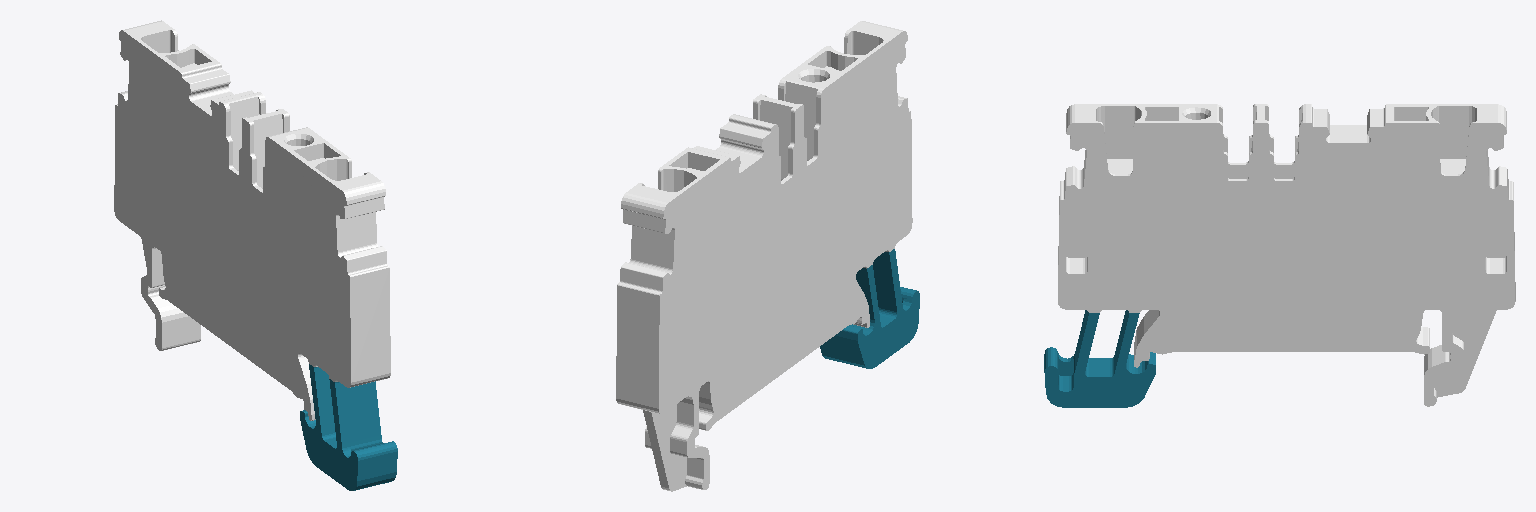
URDF robot description (W_QS_1):
<?xml version="0.0" ?>
<robot name="W_QS_1">
  <link name="main">
<!--     <contact>
      <lateral_friction value=".5"/>
    </contact> -->
    <inertial>
      <origin rpy="0 0 0" xyz="0.00254035 0.0283939 0.0206241"/>
       <mass value="0.007"/>
       <inertia ixx="1.763E-06" ixy="1.377E-06" ixz="4.158E-07" iyy="4.158E-07" iyz="1.763E-06" izz="1.377E-06"/>
    </inertial>
    <visual>
      <origin rpy="0 0 0" xyz="0 0 0"/>
      <geometry>
				<mesh filename="W_QS_Main_1.obj" scale="1 1 1"/>
      </geometry>
      <material name="WS_white">
        <color rgba="1 1 1 1"/>
      </material>
    </visual>
    <collision>
      <origin rpy="0 0 0" xyz="0 0 0"/>
      <geometry>
				<mesh filename="W_QS_Main_1.obj" scale="1 1 1"/>
      </geometry>
    </collision>
  </link>

  <joint name="main_to_hinge_left_back" type="fixed">
    <parent link="main"/>
    <child link="hinge_left_back"/>
    <origin xyz="0 0.005742 0.012" rpy="0 0 0"/>
  </joint>

  <link name="hinge_left_back">
    <inertial>
      <origin rpy="0 0 0" xyz="0.00255 0.00498658 0.00852295"/>
       <mass value="4.526E-05"/>
       <inertia ixx="1.995E-10" ixy="1.127E-10" ixz="2.829E-10" iyy="2.829E-10" iyz="1.995E-10" izz="1.127E-10"/>
    </inertial>
    <visual>
      <origin rpy="0 0 0" xyz="0 -0.005742 -0.012"/>
      <geometry>
				<mesh filename="W_QS_LeftS_1.obj" scale="1 1 1"/>
      </geometry>
      <material name="WS_blue">
        <color rgba="0.173 0.545 0.647 1"/>
      </material>
    </visual>
    <collision>
      <origin rpy="0 0 0" xyz="0 -0.005742 -0.012"/>
      <geometry>
				<mesh filename="W_QS_LeftS_1.obj" scale="1 1 1"/>
      </geometry>
    </collision>
  </link>

  <joint name="main_to_hinge_right_front" type="fixed">
    <parent link="main"/>
    <child link="hinge_right_front"/>
    <origin xyz="0 0.01038 0.012" rpy="0 0 0"/>
  </joint>

  <link name="hinge_right_front">
    <inertial>
      <origin rpy="0 0 0" xyz="0.00255 0.00957389 0.00855116"/>
       <mass value="4.239E-05"/>
       <inertia ixx="1.879E-10" ixy="1.057E-10" ixz="2.660E-10" iyy="2.660E-10" iyz="1.879E-10" izz="1.057E-10"/>
    </inertial>
    <visual>
      <origin rpy="0 0 0" xyz="0 -0.01038 -0.012"/>
      <geometry>
				<mesh filename="W_QS_RightS_1.obj" scale="1 1 1"/>
      </geometry>
      <material name="WS_blue">
        <color rgba="0.173 0.545 0.647 1"/>
      </material>
    </visual>
    <collision>
      <origin rpy="0 0 0" xyz="0 -0.01038 -0.012"/>
      <geometry>
				<mesh filename="W_QS_RightS_1.obj" scale="1 1 1"/>
      </geometry>
    </collision>
  </link>

  <joint name="hinge_left_back_to_clip" type="prismatic">
    <parent link="hinge_left_back"/>
    <child link="clip"/>
    <origin xyz="0 -0.001542 -0.007" rpy="0 0 0"/>
    <axis xyz="0 1 0"/>
    <limit lower="-0.0009" upper="0"
           effort="300" velocity="3.14159265359" />
    <safety_controller soft_lower_limit="-0.0009"
                       soft_upper_limit="0"
                       k_position="100"
                       k_velocity="2"/>
    <dynamics damping="0.5"/>
  </joint>

  <!-- 0 0.005742 0.012 -->

  <!-- <joint name="hinge_right_front_to_clip" type="revolute">
    <parent link="hinge_right_front"/>
    <child link="clip"/>
    <origin xyz="0.005109 0.00885 0.005" rpy="0 0 0"/>
    <axis xyz="0 0 1"/>
    <limit lower="-0.01" upper="0.01"
           effort="300" velocity="3.14159265359" />
    <safety_controller soft_lower_limit="-3.01941960595"
                       soft_upper_limit="3.01941960595"
                       k_position="100"
                       k_velocity="2"/>
    <dynamics damping="0.5"/>
  </joint> -->

  <link name="clip">
    <inertial>
      <origin rpy="0 0 0" xyz="0.00252297 0.0063662 0.00238966"/>
       <mass value="2.681E-04"/>
       <inertia ixx="3.829E-09" ixy="3.915E-09" ixz="1.091E-09" iyy="1.091E-09" iyz="3.829E-09" izz="3.915E-09"/>
    </inertial>
    <visual>
      <origin rpy="0 0 0" xyz="0 -0.0042 -0.005"/>
      <geometry>
				<mesh filename="W_QS_ClipS_1.obj" scale="1 1 1"/>
      </geometry>
       <material name="WS_blue">
        <color rgba="0.173 0.545 0.647 1"/>
      </material>
    </visual>
    <collision>
      <origin rpy="0 0 0" xyz="0 -0.0042 -0.005"/>
      <geometry>
				<mesh filename="W_QS_ClipS_1.obj" scale="1 1 1"/>
      </geometry>
    </collision>
  </link>
</robot>

--- Facts derived from the render (not from the file) ---
Views: 3 orthographic renders of the robot side by side, from view 1: azimuth 30°, elevation 25°; view 2: azimuth 150°, elevation 25°; view 3: azimuth 270°, elevation 25°.
Robot: W_QS_1 — 4 links, 3 joints (1 prismatic, 2 fixed); root link main; default pose: every joint at zero.
Links seen in each view (by area): view 1: main, clip, hinge_left_back, hinge_right_front; view 2: main, clip, hinge_left_back, hinge_right_front; view 3: main, clip, hinge_left_back, hinge_right_front.
Link boxes in pixels (x1,y1,x2,y2): main: (114, 20, 390, 420); clip: (300, 410, 397, 490); hinge_left_back: (329, 379, 380, 443); hinge_right_front: (309, 364, 334, 428); main: (616, 21, 912, 491); clip: (820, 287, 919, 368); hinge_left_back: (873, 249, 901, 307); hinge_right_front: (856, 265, 879, 323); main: (1058, 104, 1515, 406); clip: (1044, 347, 1155, 407); hinge_left_back: (1076, 310, 1099, 367); hinge_right_front: (1116, 310, 1139, 367).
Bounding box of the posed robot: 0.0051 × 0.0542 × 0.0362 m (x, y, z).
Meshes: 4 distinct files referenced, 4 mesh visuals loaded (4 OBJ).